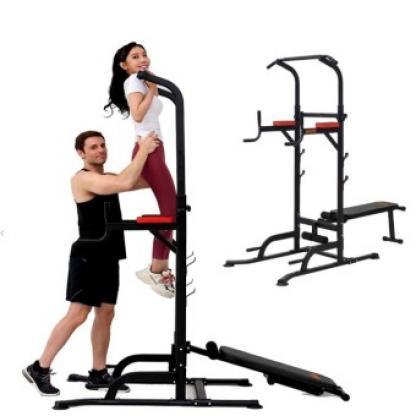chinning dipping: (224, 53, 350, 287)
